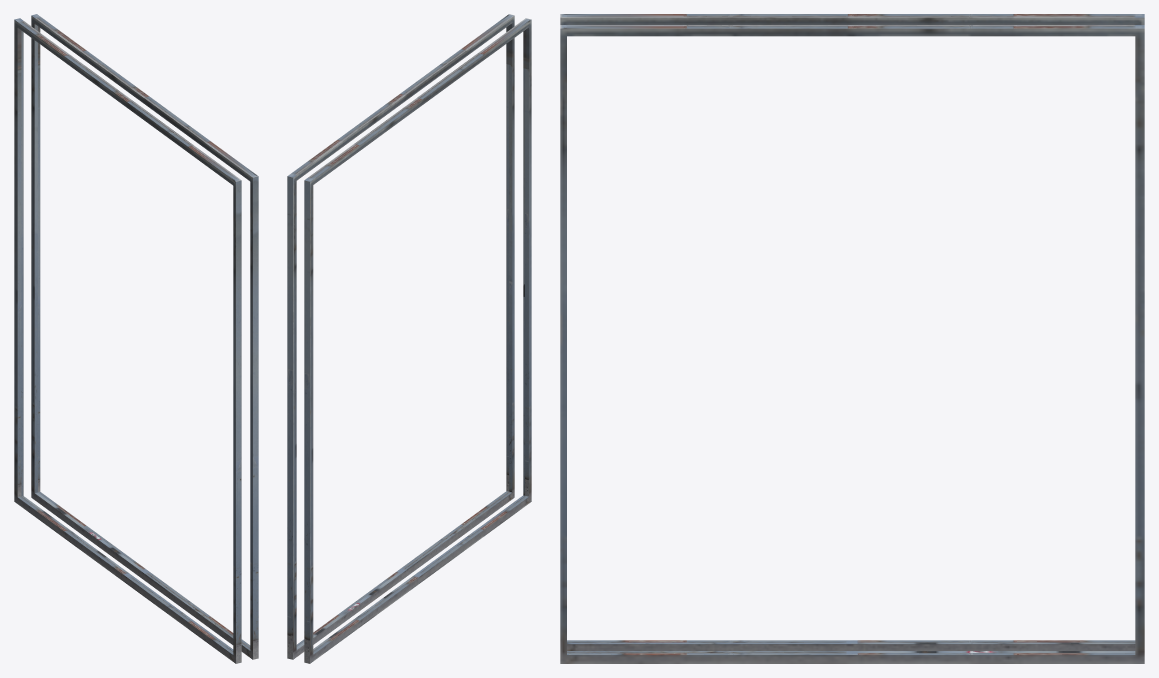
The model's file is SM_DooFrame.fbx.
The picture shows the model from 3 angles, left to right: view 1: azimuth 30°, elevation 25°; view 2: azimuth 150°, elevation 25°; view 3: azimuth 270°, elevation 25°; orthographic projection. The views are drawn at different scales.
Visible parts, largest first — view 1: SM_DooFrame; view 2: SM_DooFrame; view 3: SM_DooFrame.
Part boxes in pixels (<box>): SM_DooFrame: <box>14,14,258,663</box>; SM_DooFrame: <box>287,14,531,663</box>; SM_DooFrame: <box>560,14,1144,663</box>.
Bounding box in the file's own units: 14.76 × 250 × 300.
1 material, 1 textured.
